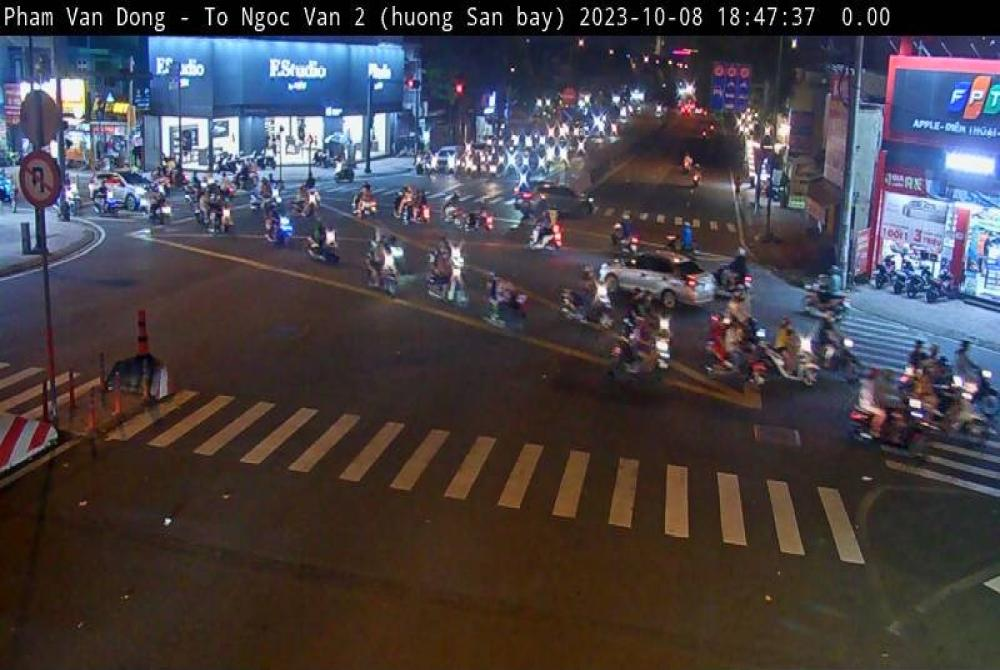car: (597, 251, 719, 318)
